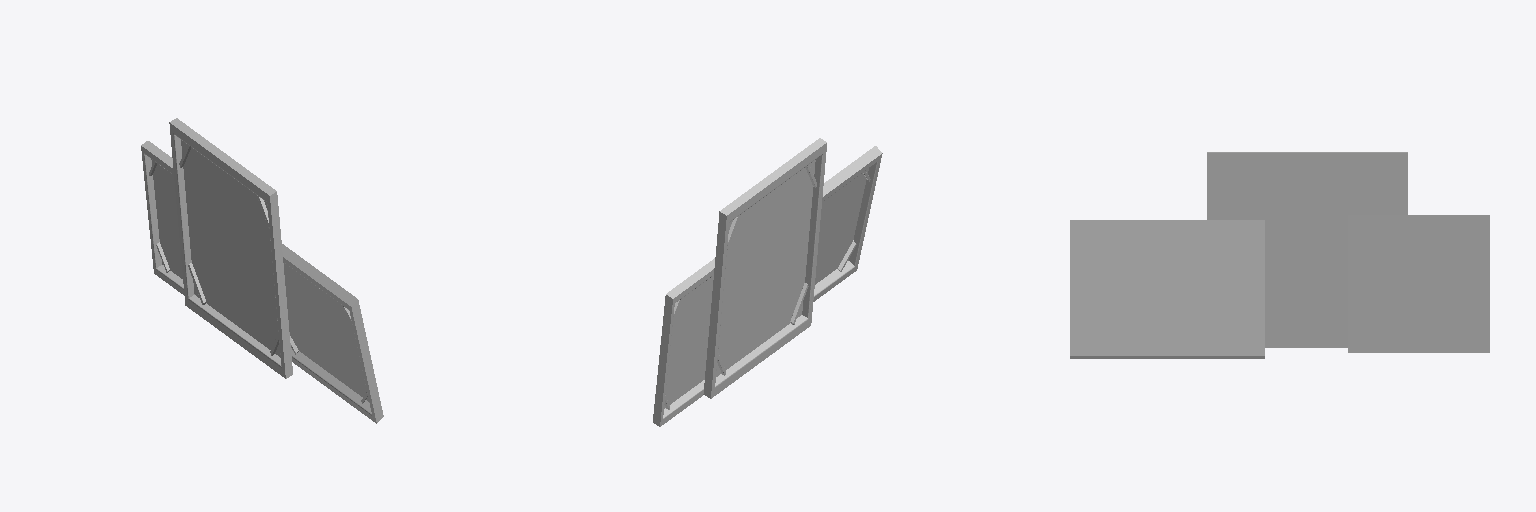
Rendered from quadro.obj.
The picture shows the model from 3 angles: view 1: azimuth 30°, elevation 25°; view 2: azimuth 150°, elevation 25°; view 3: azimuth 270°, elevation 25°; orthographic projection.
Visible parts, largest first — view 1: quadro01_obj.001, quadro02_obj.002, quadro03_obj.003; view 2: quadro01_obj.001, quadro03_obj.003, quadro02_obj.002; view 3: quadro02_obj.002, quadro01_obj.001, quadro03_obj.003.
Boxes of the visible parts, x1,y1,x2,y2 form: quadro01_obj.001: [149, 118, 367, 403]; quadro02_obj.002: [282, 244, 383, 423]; quadro03_obj.003: [141, 141, 184, 295]; quadro01_obj.001: [665, 138, 870, 409]; quadro03_obj.003: [653, 258, 714, 426]; quadro02_obj.002: [813, 146, 882, 301]; quadro02_obj.002: [1070, 220, 1264, 358]; quadro01_obj.001: [1207, 152, 1407, 347]; quadro03_obj.003: [1348, 215, 1489, 352].
Bounding box in the file's own units: 0.5 × 2 × 4.